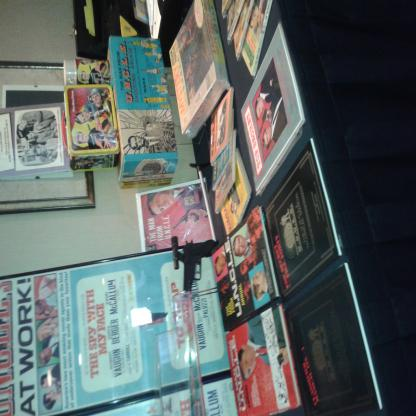book: (281, 264, 385, 416), (263, 140, 344, 304), (239, 22, 306, 198), (166, 0, 231, 141), (212, 207, 282, 332), (226, 304, 301, 416), (218, 0, 274, 78), (217, 148, 253, 232), (207, 87, 234, 164), (209, 153, 238, 214), (212, 128, 234, 194)
